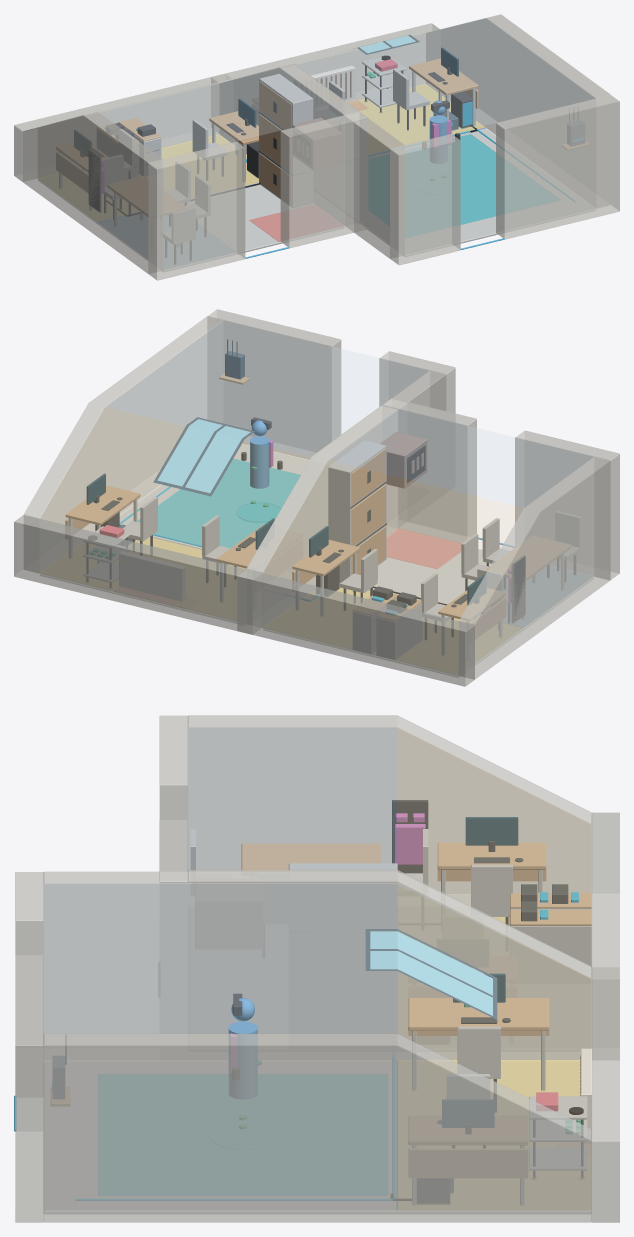
The model's file is kogni_lab_equipped_307_308.glb.
The picture shows the model from 3 angles, top to bottom: view 1: azimuth 30°, elevation 25°; view 2: azimuth 150°, elevation 25°; view 3: azimuth 270°, elevation 25°; orthographic projection. The views are drawn at different scales.
Parts seen in each view (by area): view 1: Room_308_flat_ceiling_h216, Room_308_east_sloped_wall, Room_307_west_sloped_wall, Room_308_south_wall_right_of_door, Room_307_south_wall_left_of_door, Room_307_flat_ceiling_h218, Room_307_south_wall_right_of_door, Room_308_floor, Room_308_west_sloped_wall, zone_308_primary_vr, Room_307_north_eave_wall_hmin, Room_308_south_wall_left_of_door (+34 smaller); view 2: Room_307_sloped_ceiling_hmin100, Room_308_flat_ceiling_h216, Room_308_sloped_ceiling_hmin100, Room_308_east_sloped_wall, Room_307_west_sloped_wall, Room_308_north_eave_wall_hmin, Room_307_north_eave_wall_hmin, Room_308_south_wall_right_of_door, Room_307_flat_ceiling_h218, Room_307_south_wall_left_of_door, Room_308_west_sloped_wall, Room_307_south_wall_right_of_door (+34 smaller); view 3: Room_308_east_sloped_wall, Room_308_west_sloped_wall, Room_308_flat_ceiling_h216, Room_307_east_sloped_wall, Room_307_west_sloped_wall, zone_308_primary_vr, Room_307_flat_ceiling_h218, Room_307_sloped_ceiling_hmin100, Room_308_sloped_ceiling_hmin100, Room_308_floor, zone_308_low_service_band, Room_308_south_wall_right_of_door (+30 smaller).
Boxes of the visible parts, x1=… form: Room_308_flat_ceiling_h216: x1=296, y1=18, x2=594, y2=144; Room_308_east_sloped_wall: x1=426, y1=14, x2=610, y2=207; Room_307_west_sloped_wall: x1=22, y1=111, x2=162, y2=273; Room_308_south_wall_right_of_door: x1=496, y1=95, x2=619, y2=239; Room_307_south_wall_left_of_door: x1=148, y1=141, x2=245, y2=280; Room_307_flat_ceiling_h218: x1=99, y1=68, x2=343, y2=158; Room_307_south_wall_right_of_door: x1=280, y1=111, x2=368, y2=248; Room_308_floor: x1=358, y1=85, x2=595, y2=256; Room_308_west_sloped_wall: x1=220, y1=65, x2=404, y2=258; zone_308_primary_vr: x1=369, y1=134, x2=558, y2=237; Room_307_north_eave_wall_hmin: x1=14, y1=74, x2=232, y2=181; Room_308_south_wall_left_of_door: x1=390, y1=134, x2=460, y2=265; Room_307_sloped_ceiling_hmin100: x1=263, y1=460, x2=522, y2=620; Room_308_flat_ceiling_h216: x1=106, y1=320, x2=428, y2=456; Room_308_sloped_ceiling_hmin100: x1=40, y1=407, x2=310, y2=568; Room_308_east_sloped_wall: x1=23, y1=316, x2=223, y2=572; Room_307_west_sloped_wall: x1=459, y1=457, x2=610, y2=679; Room_308_north_eave_wall_hmin: x1=14, y1=515, x2=261, y2=634; Room_307_north_eave_wall_hmin: x1=237, y1=569, x2=474, y2=686; Room_308_south_wall_right_of_door: x1=207, y1=309, x2=341, y2=459; Room_307_flat_ceiling_h218: x1=329, y1=409, x2=592, y2=507; Room_307_south_wall_left_of_door: x1=515, y1=430, x2=619, y2=580; Room_308_west_sloped_wall: x1=246, y1=370, x2=446, y2=585; Room_307_south_wall_right_of_door: x1=382, y1=398, x2=476, y2=543; Room_308_east_sloped_wall: x1=43, y1=1033, x2=591, y2=1222; Room_308_west_sloped_wall: x1=43, y1=871, x2=591, y2=1059; Room_308_flat_ceiling_h216: x1=44, y1=883, x2=397, y2=1032; Room_307_east_sloped_wall: x1=188, y1=869, x2=591, y2=1059; Room_307_west_sloped_wall: x1=188, y1=715, x2=591, y2=905; zone_308_primary_vr: x1=98, y1=1074, x2=387, y2=1195; Room_307_flat_ceiling_h218: x1=188, y1=727, x2=397, y2=868; Room_307_sloped_ceiling_hmin100: x1=398, y1=728, x2=591, y2=965; Room_308_sloped_ceiling_hmin100: x1=398, y1=884, x2=591, y2=1128; Room_308_floor: x1=44, y1=1061, x2=591, y2=1213; zone_308_low_service_band: x1=399, y1=1060, x2=591, y2=1209; Room_308_south_wall_right_of_door: x1=15, y1=955, x2=43, y2=1222.
Size of the model in its own units: 8.56 by 2.24 by 6.67.
